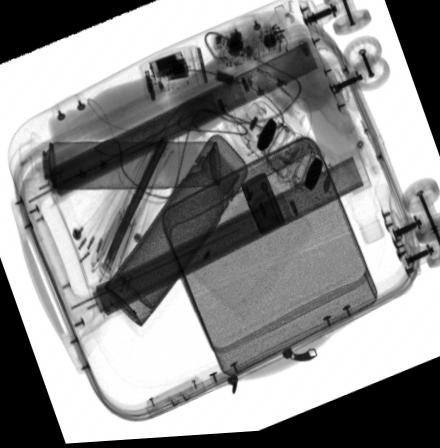Lighter: (240, 177, 284, 240)
Sprayer: (17, 141, 220, 190)
